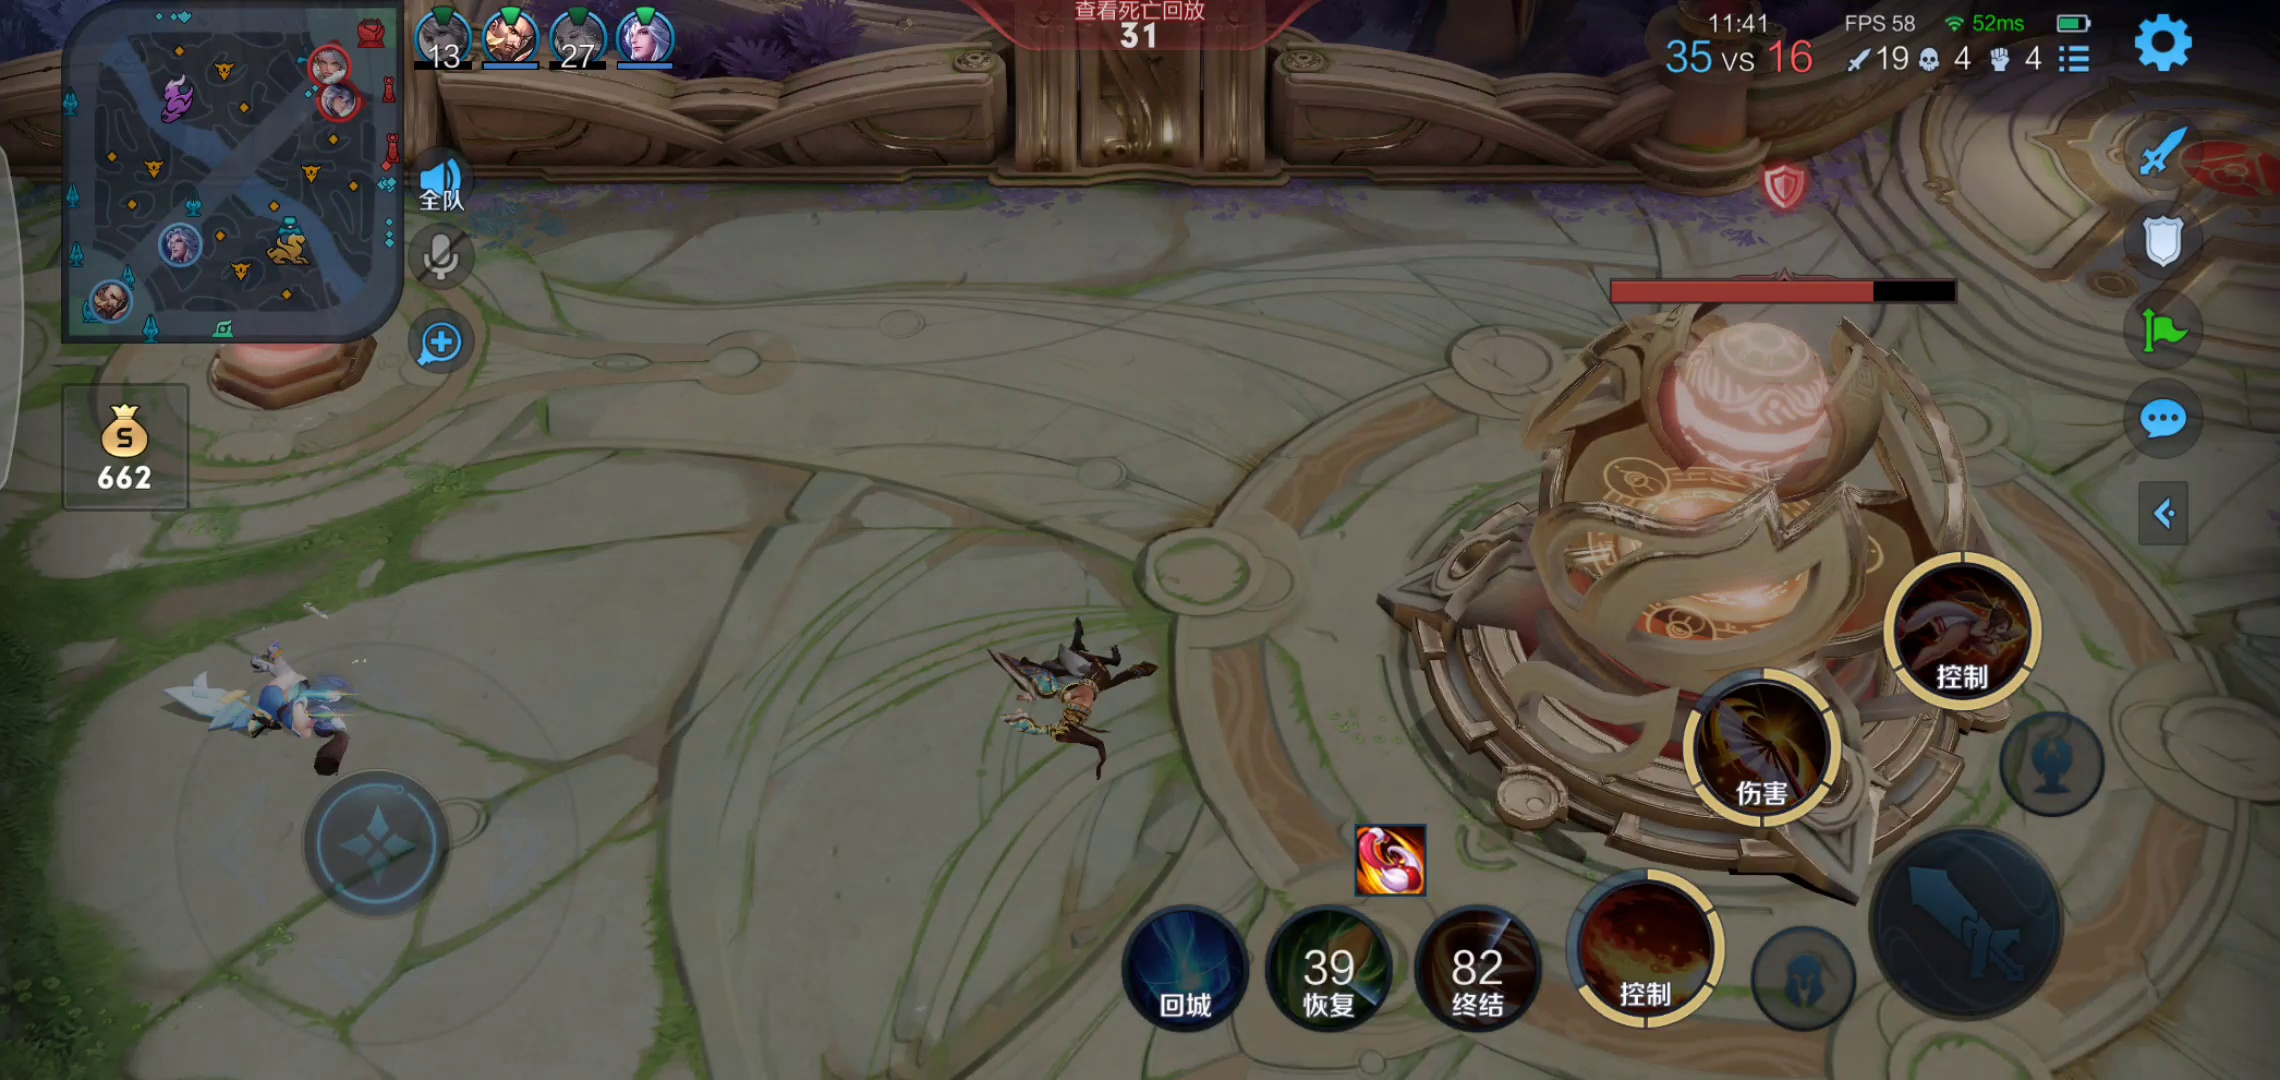crystal: (1405, 285, 2026, 911)
hero: (166, 634, 377, 785), (976, 621, 1192, 767)
tower: (177, 342, 401, 408)
